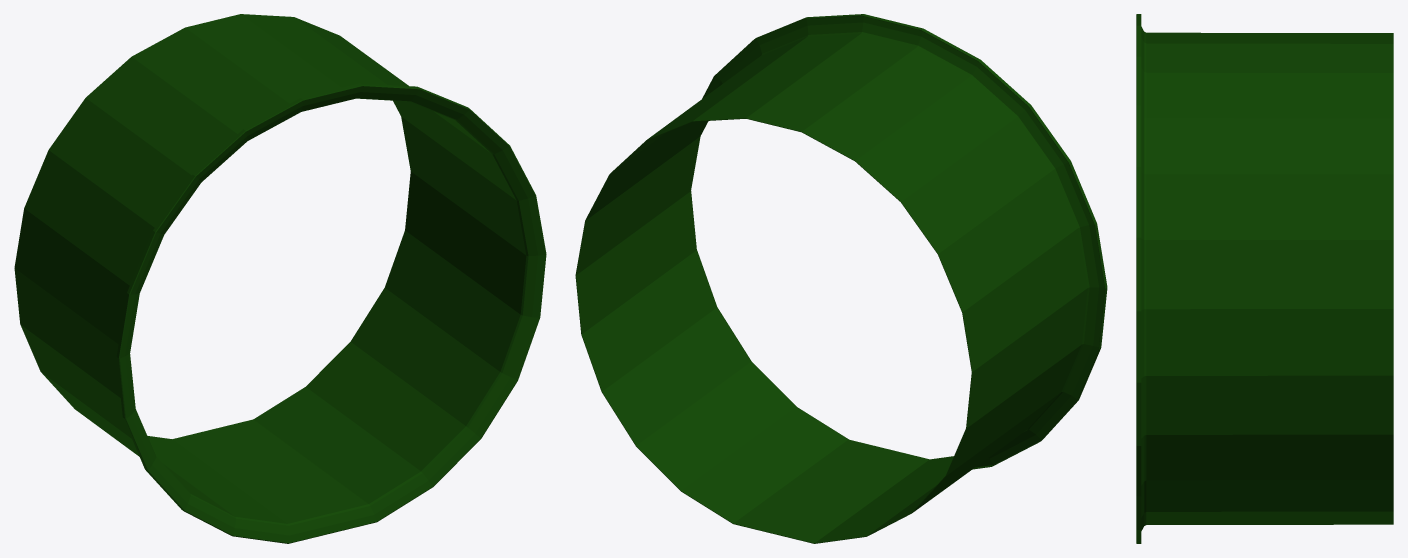
File: ring_ot_diska.fbx
3 renders of one model, left to right at view 1: azimuth 30°, elevation 25°; view 2: azimuth 150°, elevation 25°; view 3: azimuth 270°, elevation 25°, orthographic. The views are drawn at different scales.
Visible parts, largest first — view 1: ring; view 2: ring; view 3: ring.
Part boxes in pixels (x1,y1,x2,y2): ring: (14,14,546,543); ring: (575,14,1107,543); ring: (1136,14,1393,543).
Bounding box in the file's own units: 5.27 × 5.19 × 2.56.
